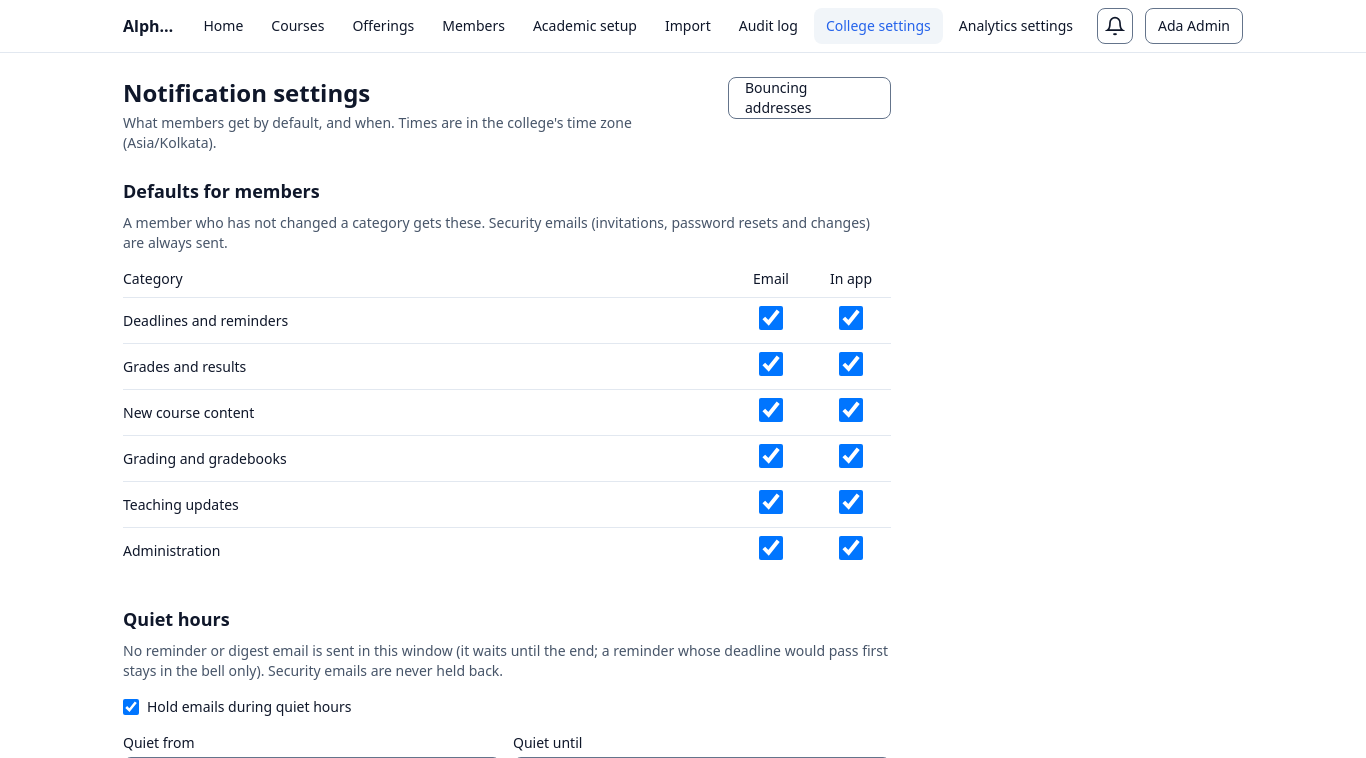
Test: college notification settings › saves defaults, quiet hours, the digest hour and the sender
expect the heading "Notification settings" is shown: met, box [123,76,370,109]
expect the text "Asia/Kolkata" is shown: met, box [123,113,632,152]
Click the checkbox named "Default email: New course content". click: coordinates (771, 410)
box: [759,398,783,422]
(page scrolled)
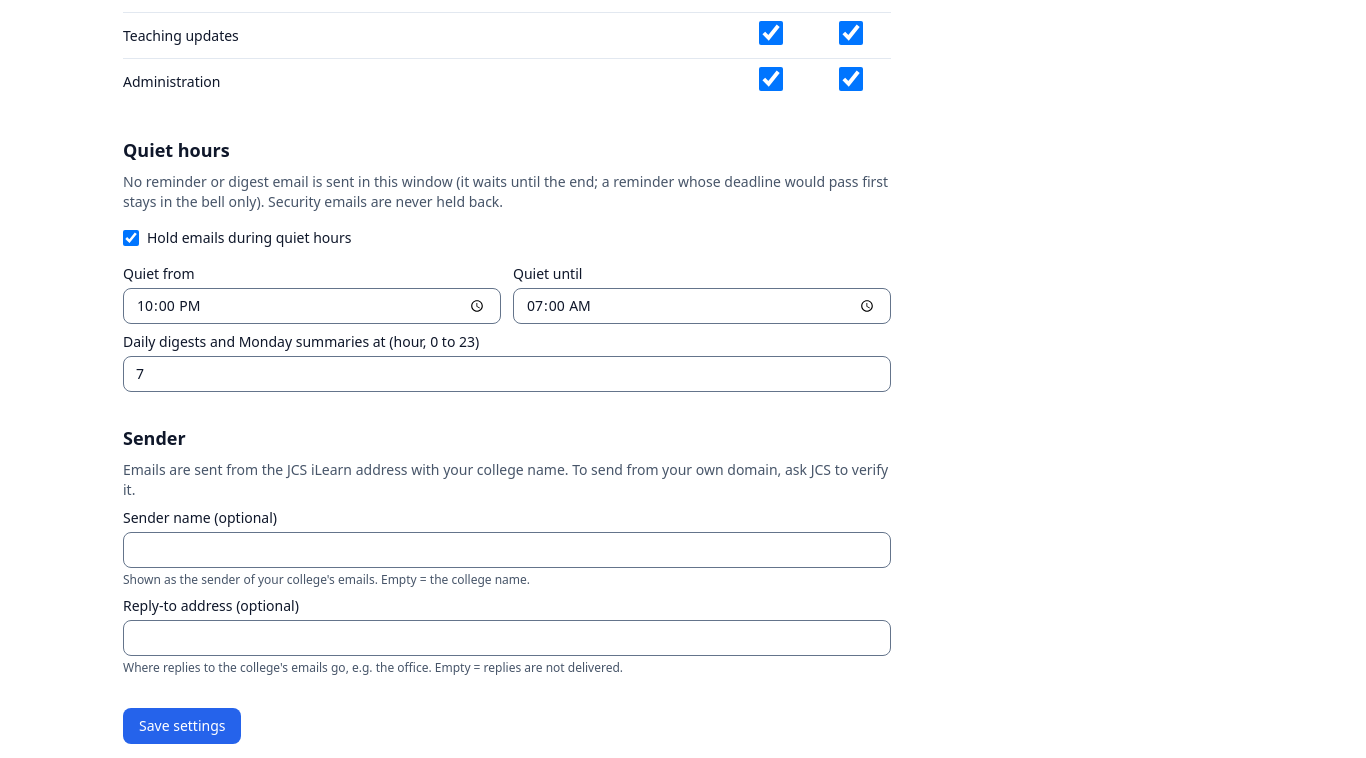
Type "Alpha Exams Office" into the field labelled "Sender name (optional)". click: coordinates (507, 550)
box: [123,532,891,568]
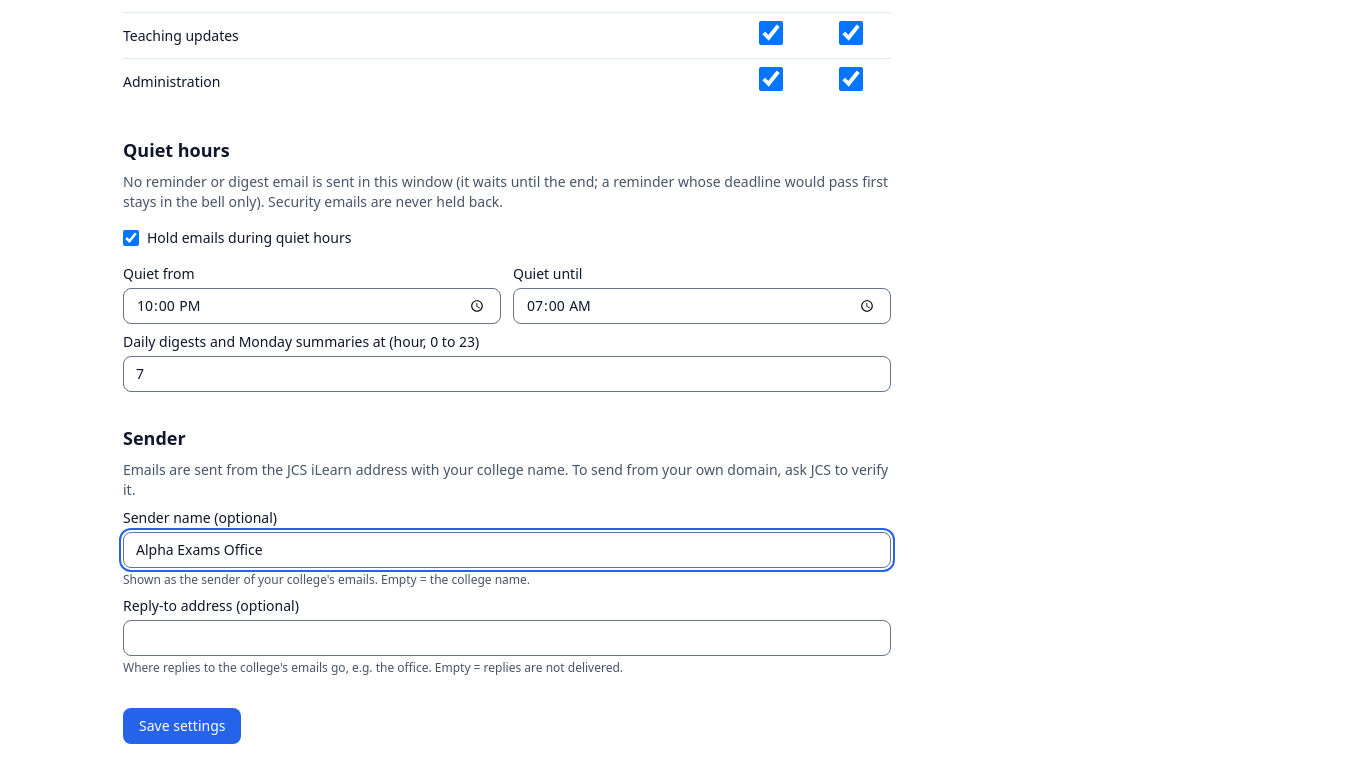
Type "office@alpha.test" into the field labelled "Reply-to address (optional)". click: coordinates (507, 638)
box: [123,620,891,656]
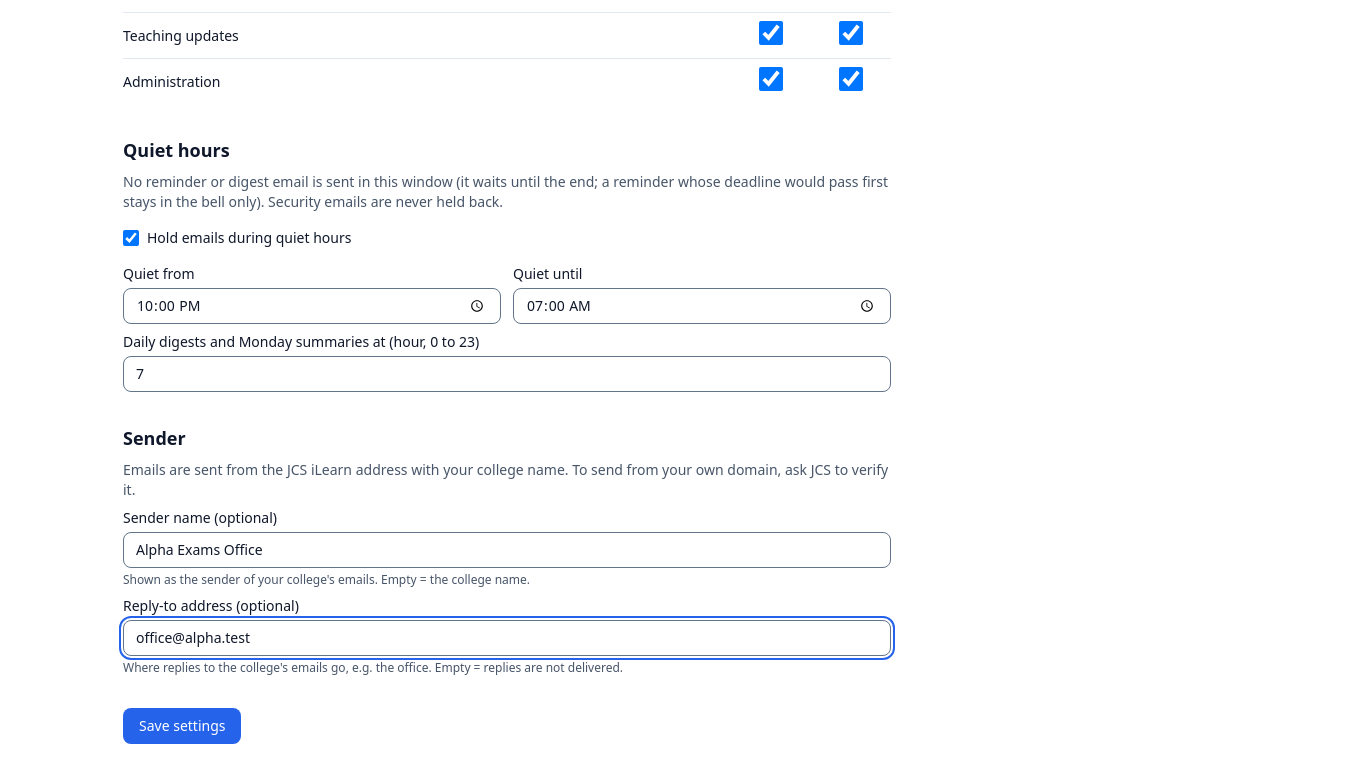
Click the button "Save settings". click: coordinates (182, 726)
box: [123,708,242,744]
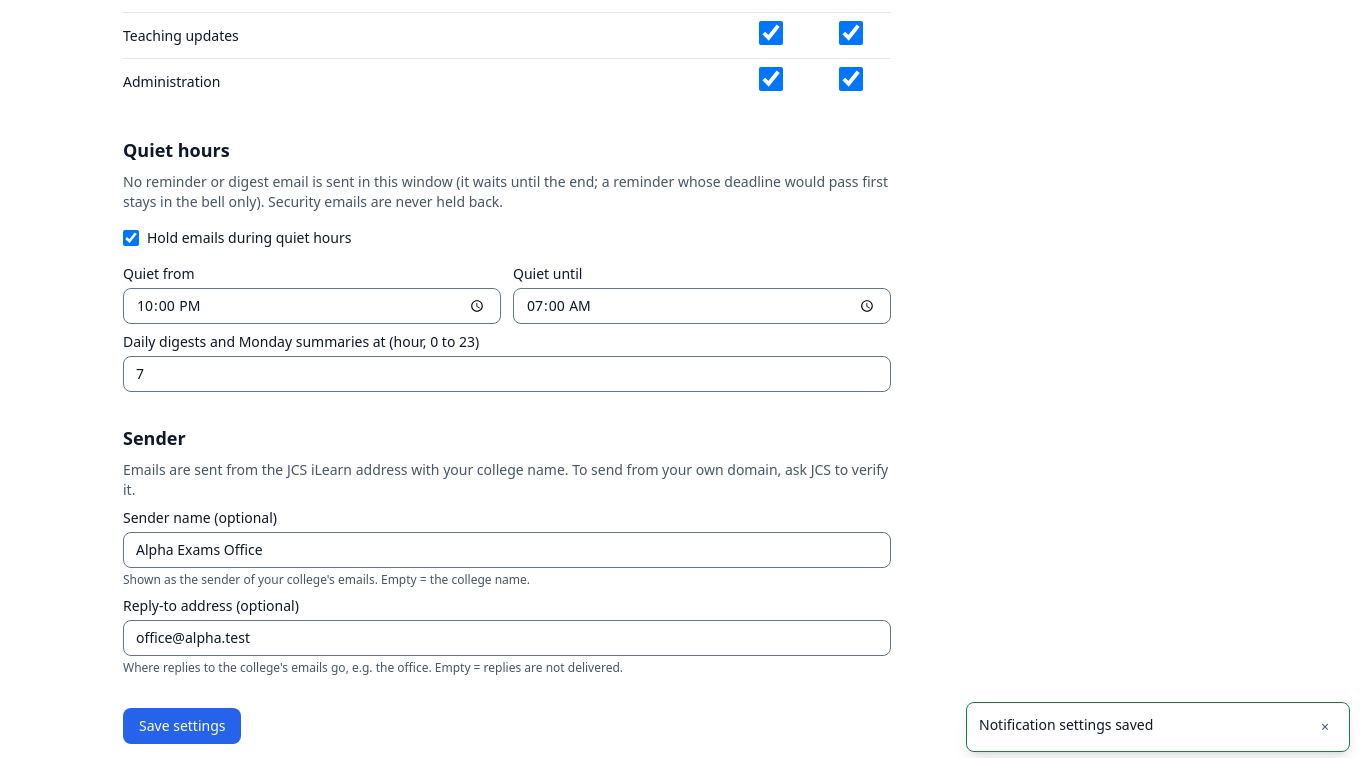
expect the text "Notification settings saved" is shown: met, box [979,715,1153,734]
